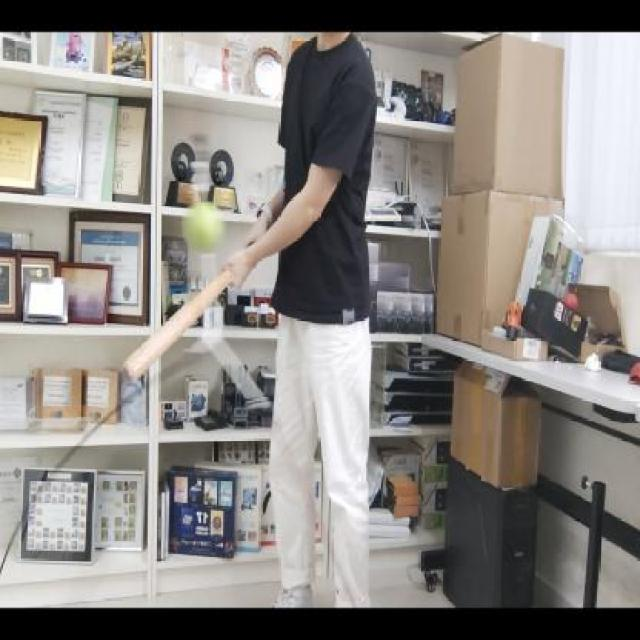baseball: (187, 200, 230, 262)
